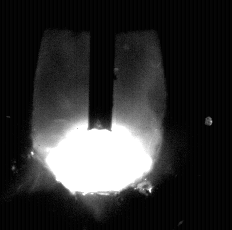arame: (89, 0, 114, 131)
poca: (32, 0, 164, 230)
